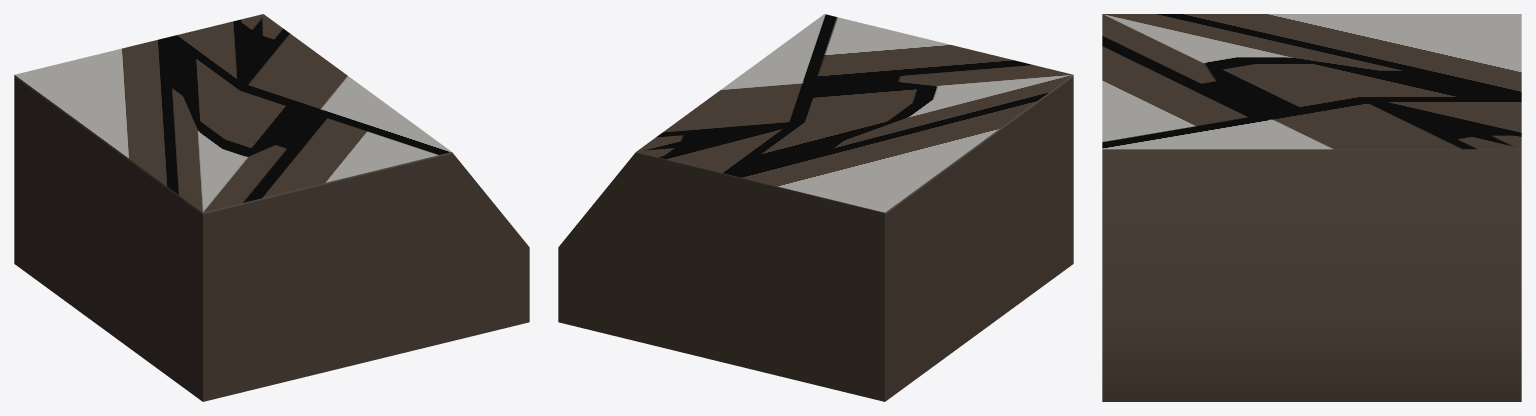
The model's file is Wall_Bottom.fbx.
The picture shows the model from 3 angles, left to right: view 1: azimuth 30°, elevation 25°; view 2: azimuth 150°, elevation 25°; view 3: azimuth 270°, elevation 25°; orthographic projection. The views are drawn at different scales.
Parts seen in each view (by area): view 1: pCube2; view 2: pCube2; view 3: pCube2.
Boxes of the visible parts, x1,y1,x2,y2 form: pCube2: [14, 14, 529, 401]; pCube2: [558, 14, 1073, 401]; pCube2: [1102, 14, 1521, 401].
Size of the model in its own units: 100 by 55.38 by 100.
1 material, 1 textured.
